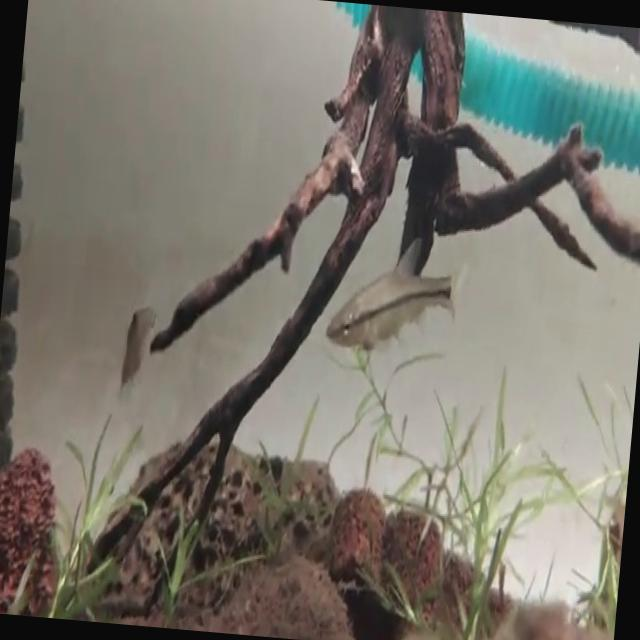Cakil Baligi: (322, 224, 461, 360)
